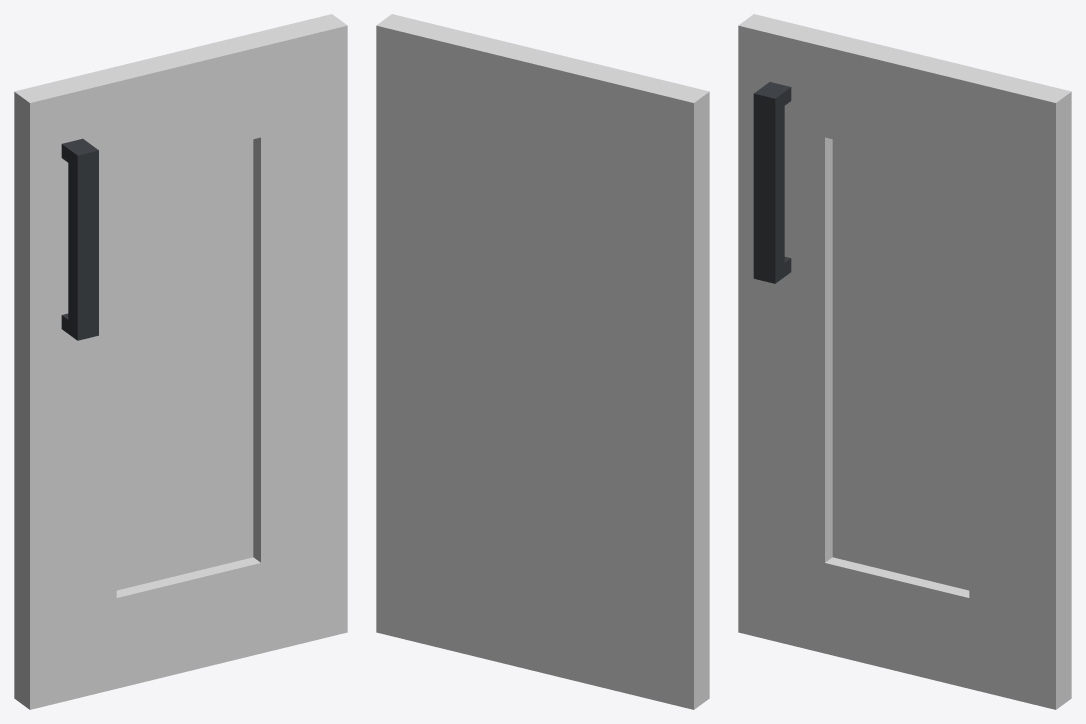
Rendered from Door2_C1_09.fbx.
The picture shows the model from 3 angles, left to right: view 1: azimuth 30°, elevation 25°; view 2: azimuth 150°, elevation 25°; view 3: azimuth 330°, elevation 25°; orthographic projection.
Parts seen in each view (by area): view 1: Door2_C1_09; view 2: Door2_C1_09; view 3: Door2_C1_09.
Boxes of the visible parts, left/top/right/bottom form: Door2_C1_09: left=14, top=14, right=347, bottom=709; Door2_C1_09: left=376, top=14, right=709, bottom=709; Door2_C1_09: left=738, top=14, right=1071, bottom=709.
Size of the model in its own units: 29 by 52.92 by 5.03.
